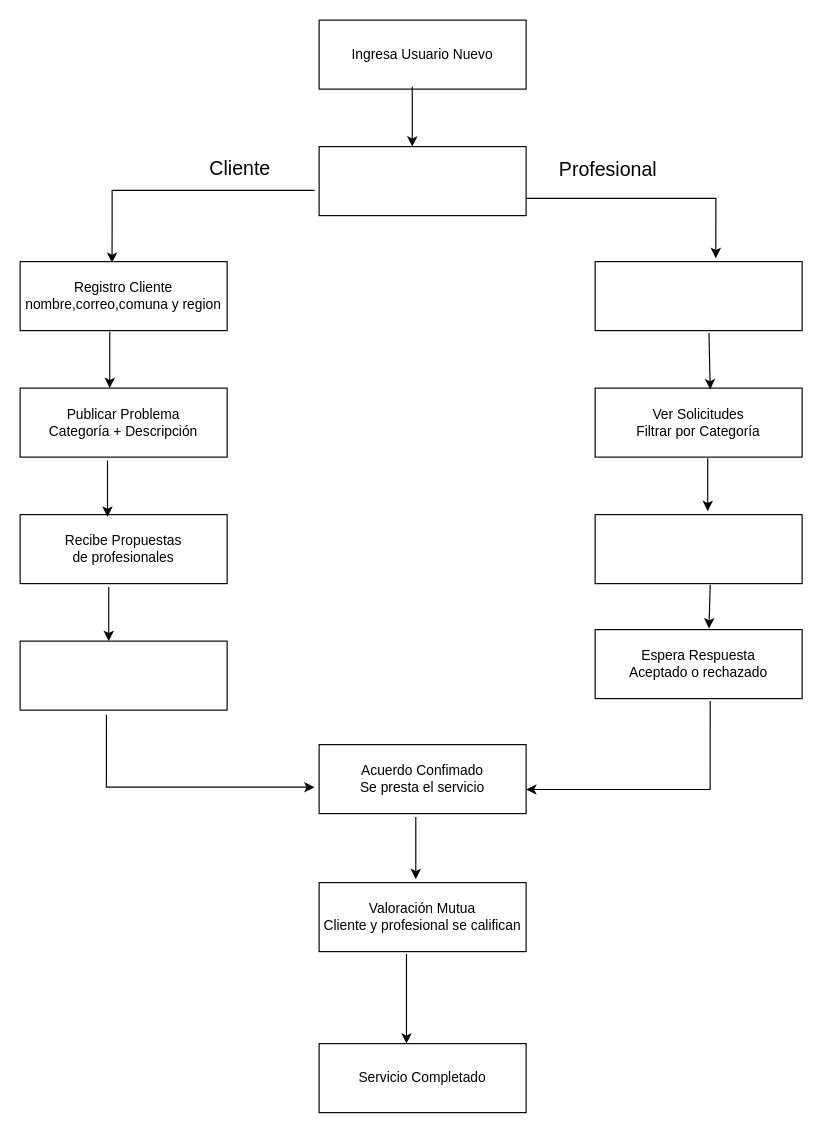
Some shapes in this 822 by 1142 pixel diagram are drawn without their labels. Each missing label, with the box of its shape:
Elige Profesional Revisa perfil y precio: (19, 640, 227, 710)
Enviar Propuesta Precio + disponibilidad: (594, 513, 802, 584)
Registro Profesional Datos + especialidad: (594, 260, 802, 331)
¿Como quieres Registrarte?: (318, 145, 526, 216)
